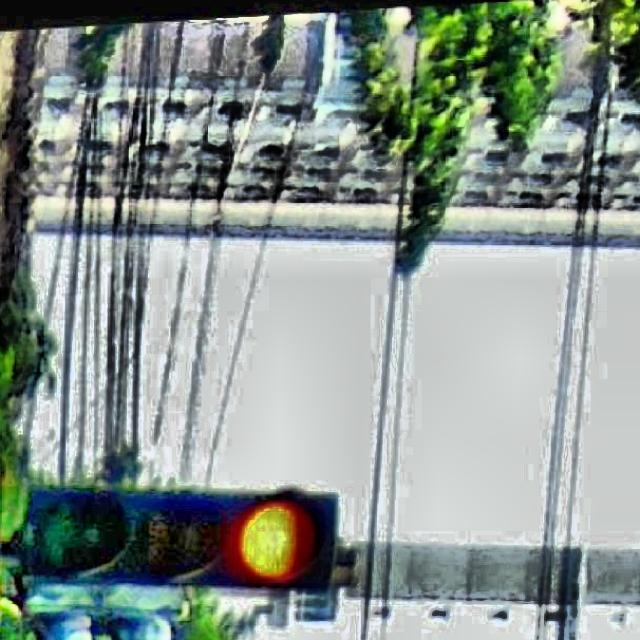red: (27, 486, 344, 586)
